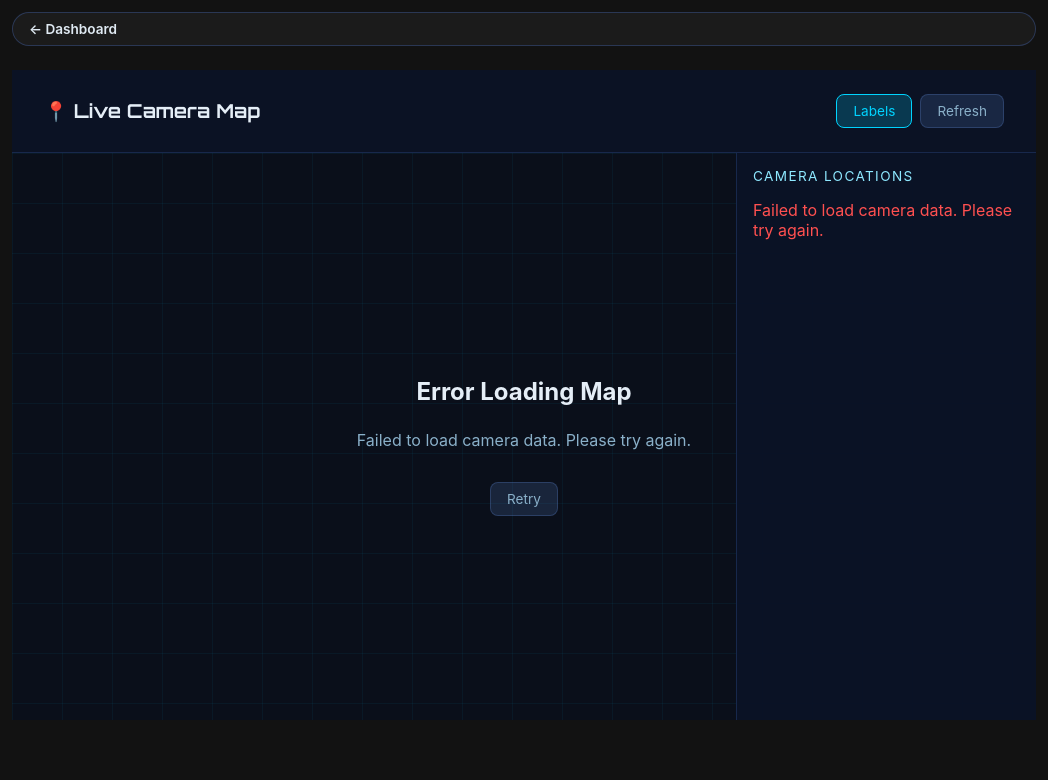
Test: Map › retry button refetches cameras
Expected: the heading "Error Loading Map" is shown, [416,377,632,406]
What coordinates should you click on to do the following:
click the button "Retry"
I would click on:
 (524, 499)
Its box is [490,482,558,516].
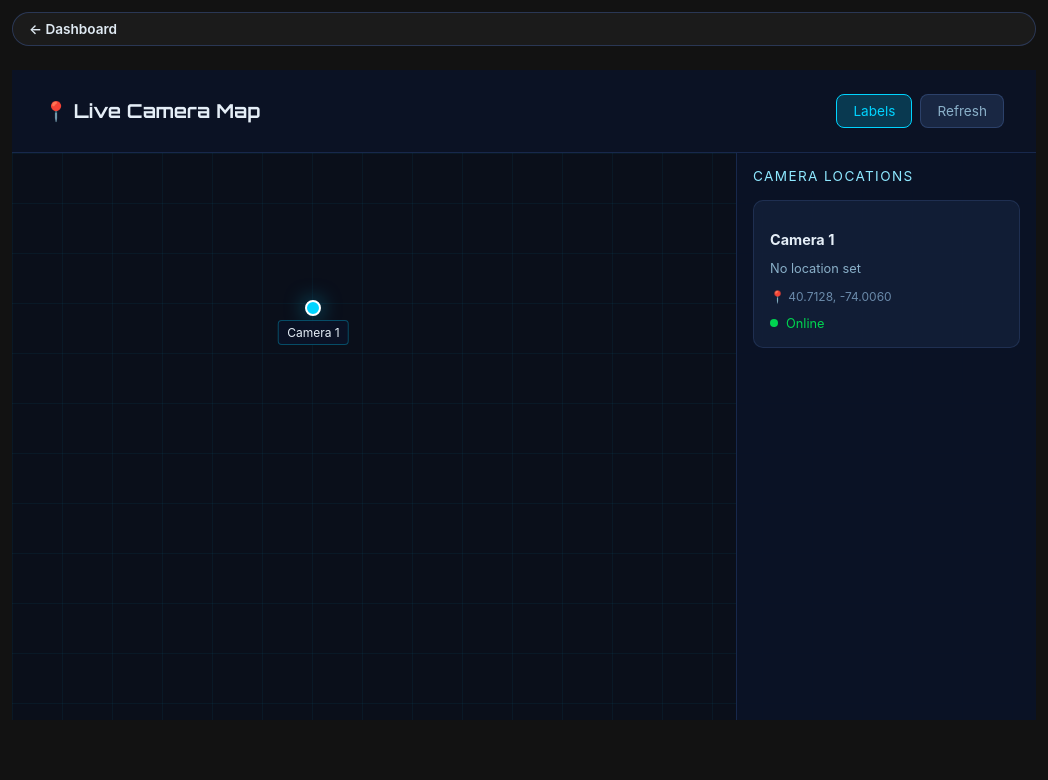
Expected: the text "Camera 1" is shown, [278,320,349,345]
